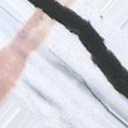crackTip: (22, 1, 127, 128)
